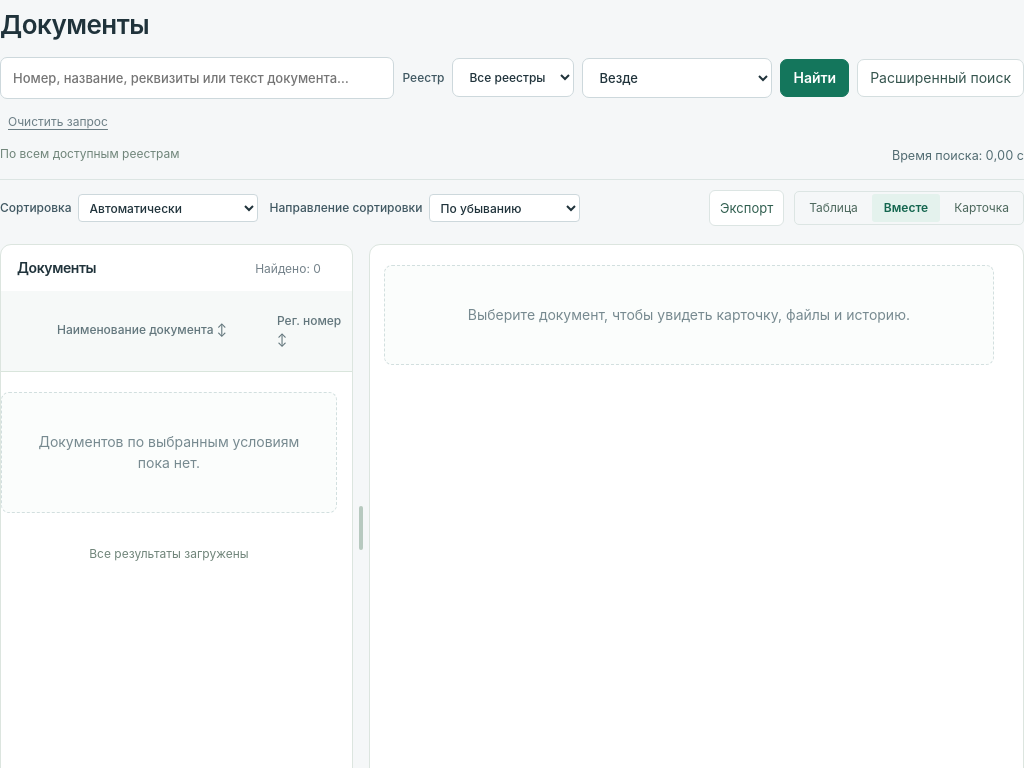
Test: offers all published filter fields with no selected type or search results and preserves legal and card publication predicates
Expected: the text "Документов по выбранным условиям пока нет." is shown, [1,392,337,513]
Click the button "Расширенный поиск" at coordinates (941, 78), box [857,59,1023,97]
(page scrolled)
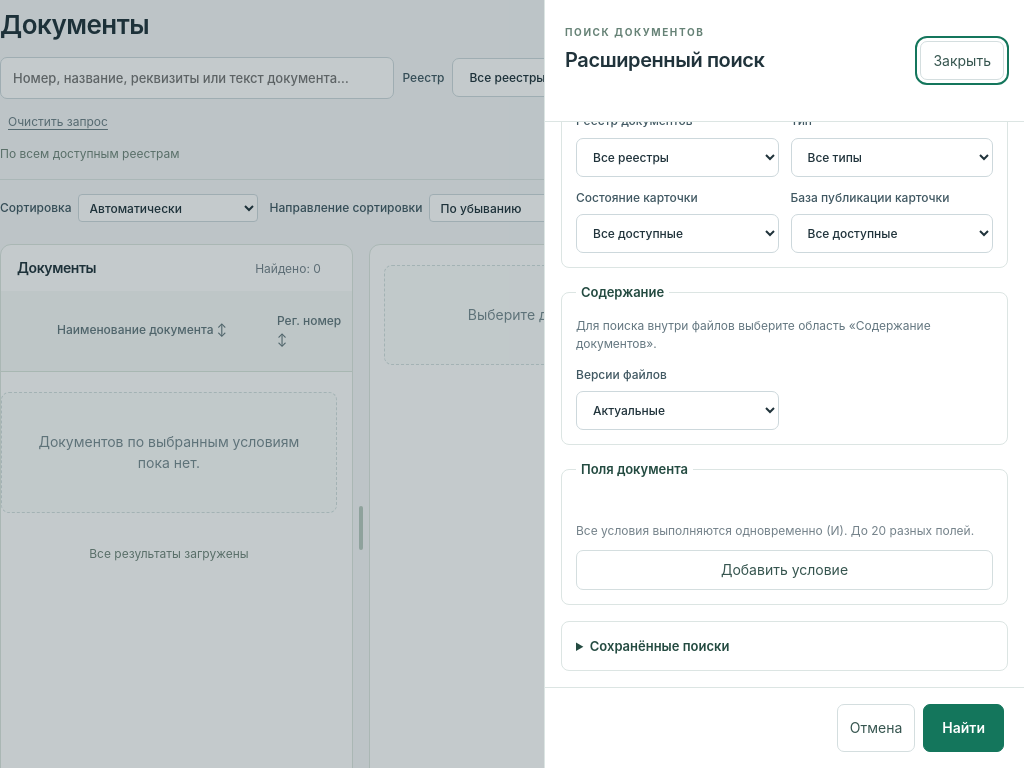
Click the button "Добавить условие" at coordinates (784, 570), box [576,550,993,590]
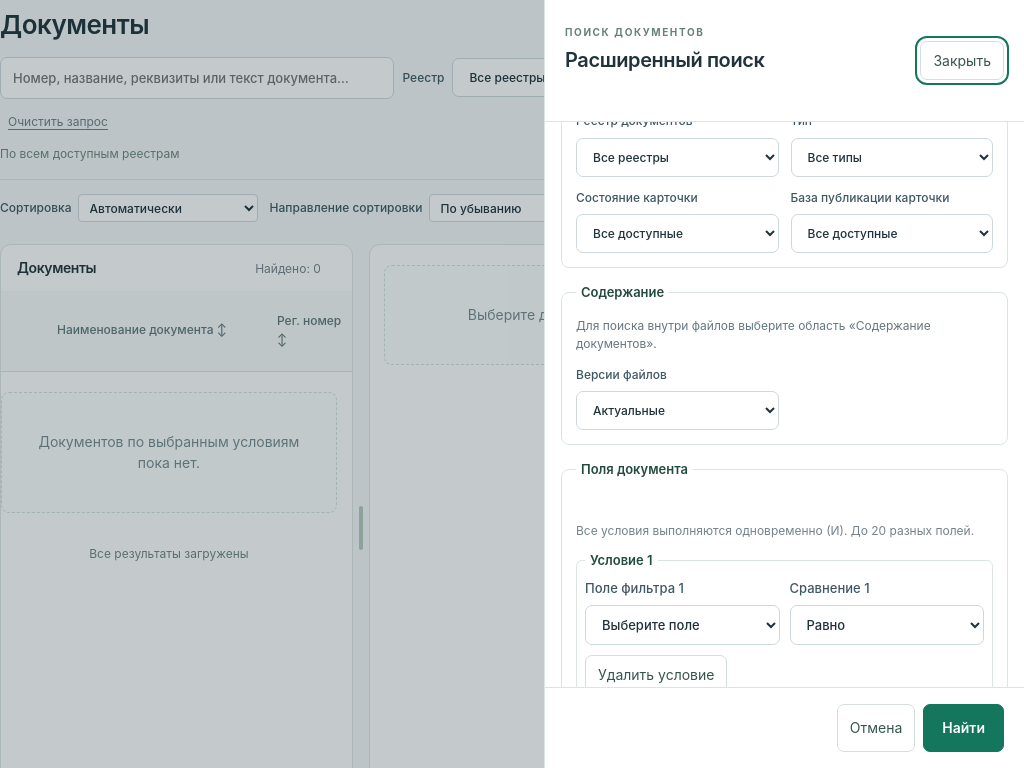
Select "Подлежит опубликованию" in the dropdown labelled "Поле фильтра 1" at coordinates (682, 625), box [585,605,780,645]
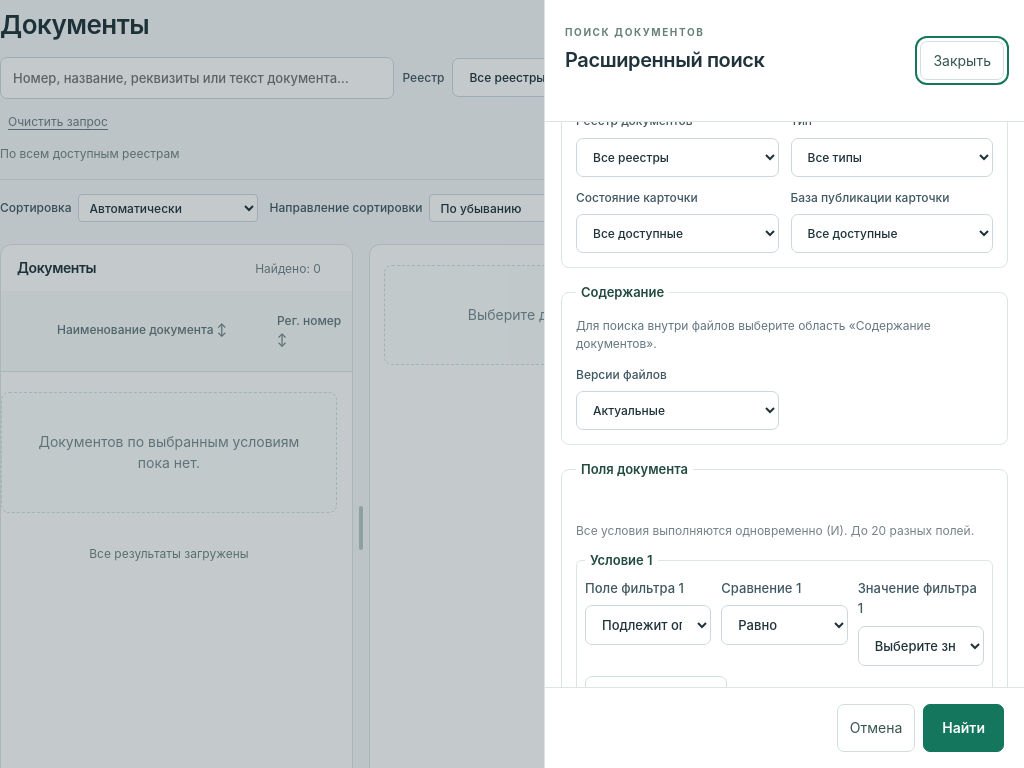
Select "Нет" in the dropdown labelled "Значение фильтра 1" at coordinates (921, 646), box [858,626,984,666]
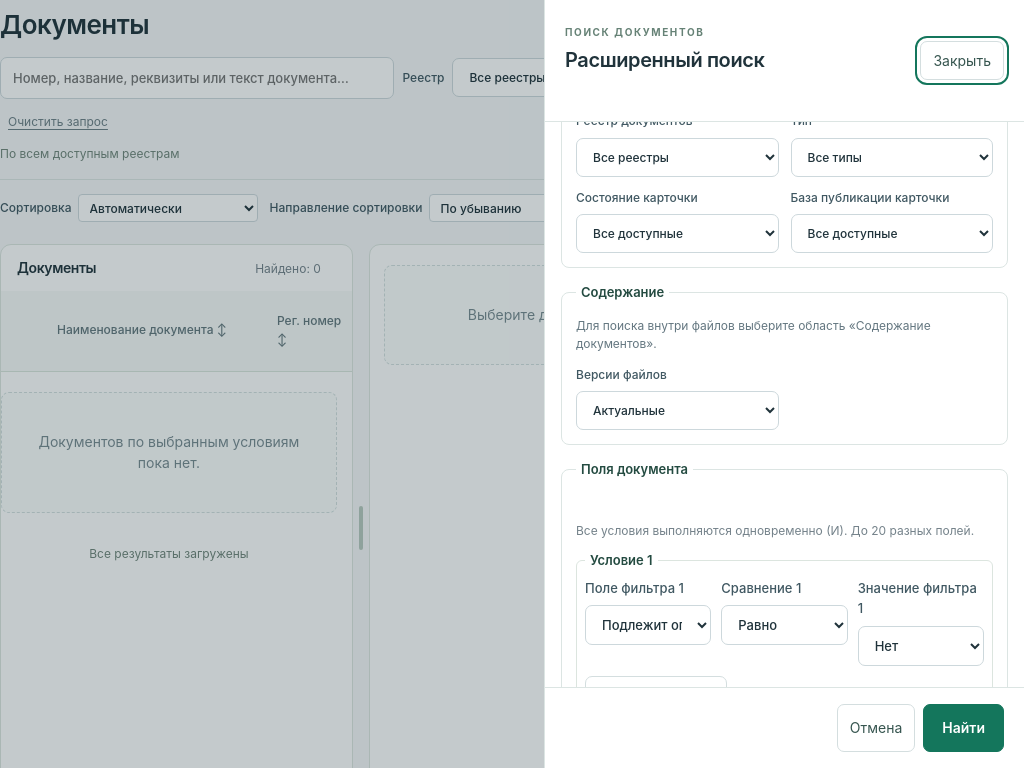
Select "Общая база" in the dropdown labelled "База публикации карточки" at coordinates (892, 234), box [790,214,993,254]
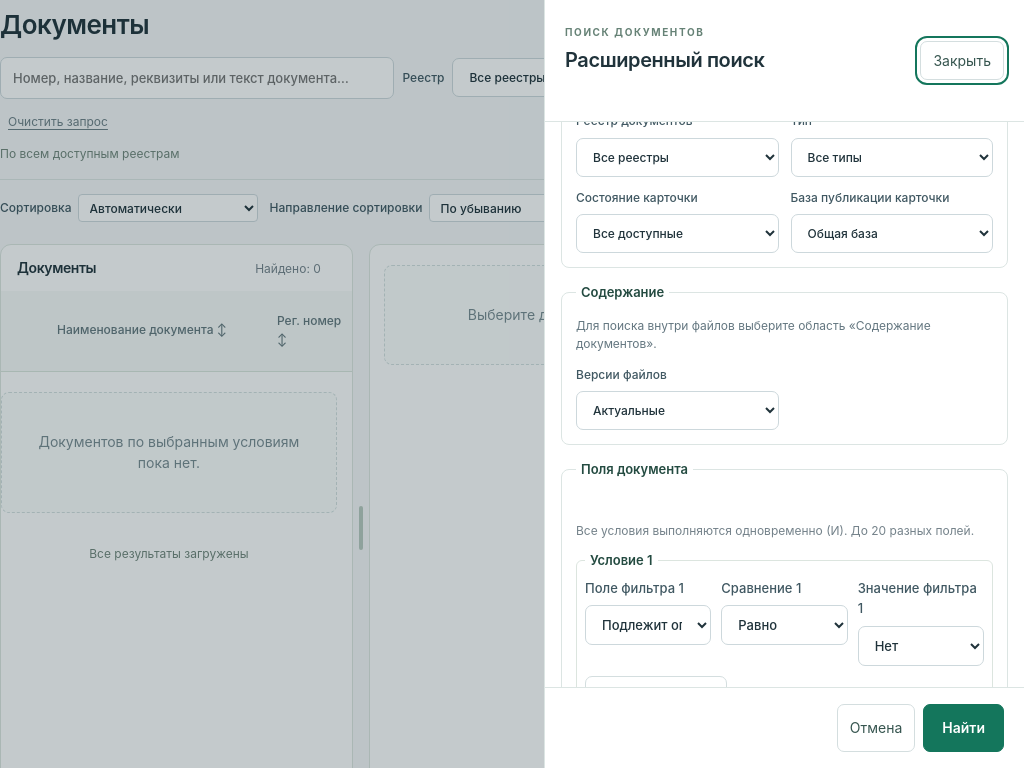
Click the button "Найти" at coordinates (964, 728), box [923,704,1004,752]
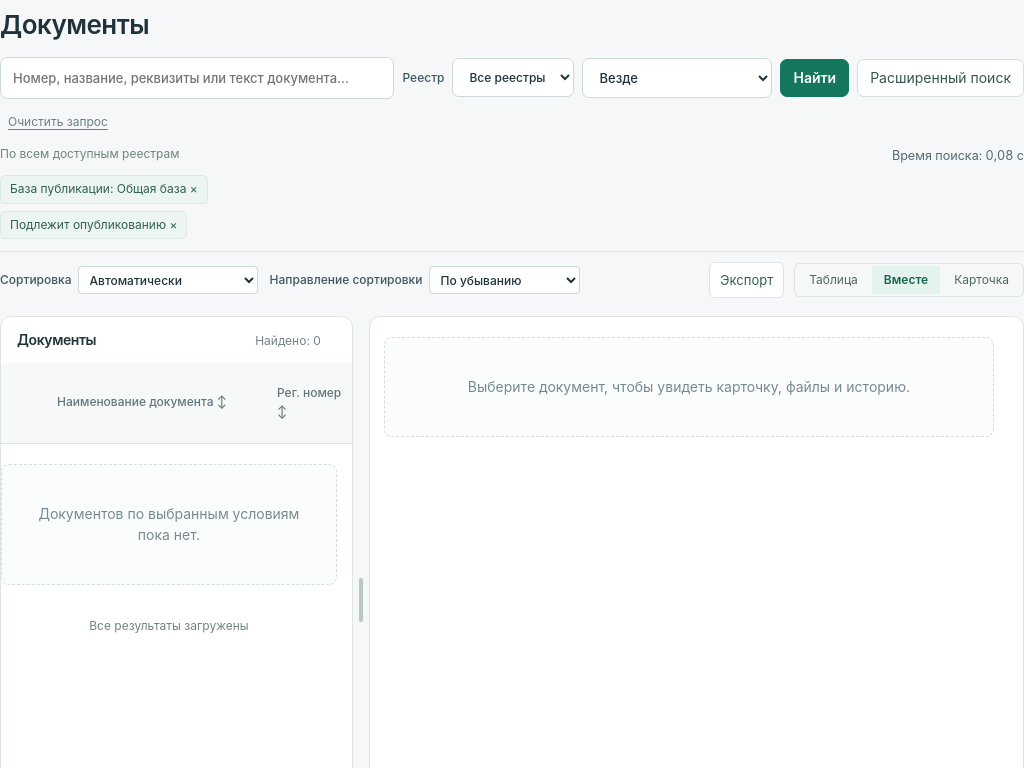
Result: the button with aria-label "Удалить фильтр publication_target" is shown at [0,175,208,204]
